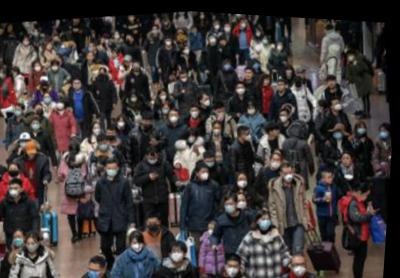NONE: (344, 151, 357, 163), (327, 169, 338, 182), (328, 74, 339, 85), (246, 67, 255, 77), (265, 74, 274, 84), (279, 79, 288, 88), (275, 124, 283, 133), (88, 53, 95, 62), (125, 58, 134, 65), (222, 36, 229, 44), (300, 67, 308, 74), (47, 42, 53, 50), (113, 50, 119, 58), (1, 30, 5, 36)
OK: (229, 259, 247, 277), (296, 257, 314, 275), (173, 245, 190, 262), (90, 263, 108, 278), (262, 213, 278, 229), (150, 217, 165, 232), (16, 234, 30, 249), (29, 240, 44, 254), (134, 238, 149, 252), (285, 166, 299, 180), (109, 163, 122, 177), (12, 185, 25, 199), (228, 198, 241, 212), (381, 123, 393, 136), (240, 173, 252, 186), (240, 194, 252, 207), (11, 166, 23, 178), (202, 167, 214, 179), (149, 153, 162, 164), (334, 96, 345, 108), (335, 125, 346, 137), (99, 160, 109, 173), (359, 121, 370, 132), (239, 16, 250, 27), (192, 105, 202, 117), (34, 120, 44, 132), (172, 110, 182, 122), (109, 128, 119, 140), (22, 138, 32, 150), (100, 140, 112, 150), (207, 156, 219, 166), (362, 188, 374, 198), (15, 106, 25, 118), (218, 106, 229, 116), (282, 109, 292, 120), (94, 124, 105, 134), (215, 123, 225, 134), (74, 80, 84, 91), (246, 128, 255, 140), (145, 118, 155, 128), (190, 132, 200, 142), (209, 33, 219, 43), (238, 83, 248, 93), (37, 106, 47, 116), (205, 94, 214, 105), (211, 223, 219, 235), (276, 40, 286, 49), (348, 48, 357, 58), (181, 73, 191, 82), (161, 91, 171, 100), (58, 100, 67, 110), (164, 104, 173, 114), (249, 104, 260, 112), (45, 94, 53, 105), (119, 118, 128, 127), (184, 45, 193, 54), (100, 69, 109, 78), (254, 58, 263, 67), (42, 79, 51, 88), (317, 101, 325, 111), (131, 93, 141, 101), (214, 19, 222, 28), (225, 60, 233, 69), (297, 76, 305, 85), (89, 43, 96, 53), (225, 22, 233, 30), (126, 35, 134, 43), (101, 38, 109, 46), (167, 37, 175, 45), (53, 64, 61, 72), (54, 37, 61, 46), (256, 26, 263, 35), (263, 33, 270, 42), (34, 29, 41, 37), (153, 26, 160, 34), (55, 56, 62, 64), (36, 64, 43, 72), (287, 65, 295, 72), (24, 39, 31, 46), (164, 17, 171, 24), (9, 35, 17, 41), (23, 95, 29, 103), (192, 25, 198, 32), (116, 31, 122, 38), (1, 71, 6, 79), (106, 37, 111, 43), (172, 64, 178, 69), (235, 12, 244, 15), (179, 30, 184, 35), (201, 11, 206, 16)
WRONG: (273, 153, 286, 167), (134, 61, 144, 71)
